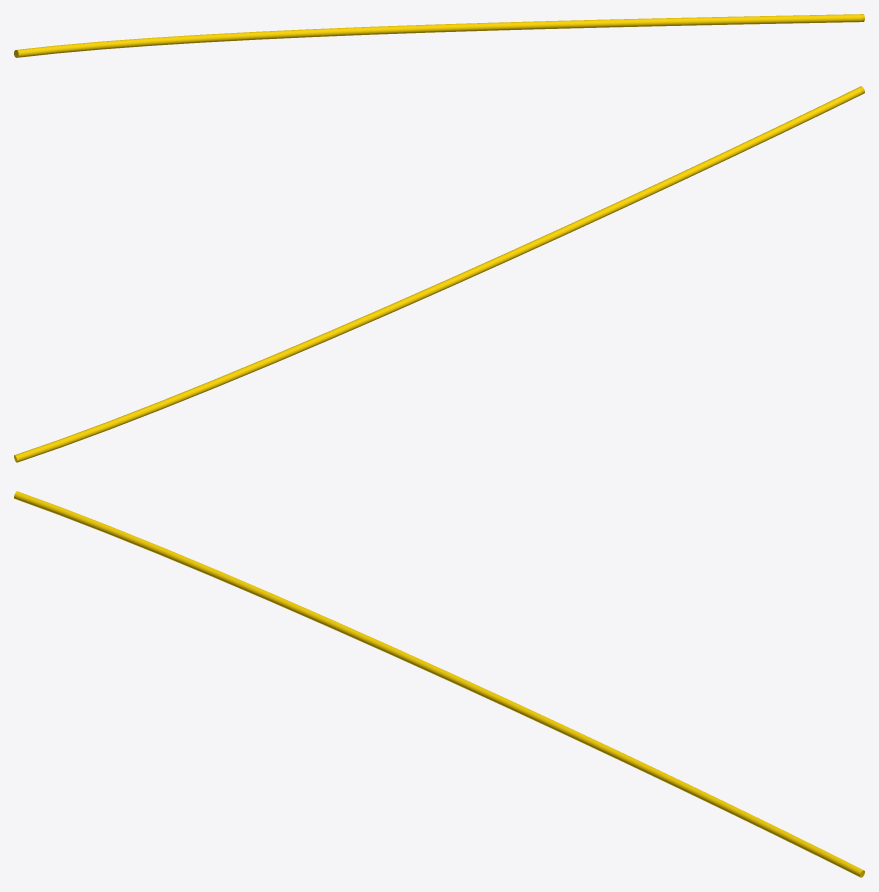
The model's file is Event_421364160_track_44.fbx.
3 renders of one model, top to bottom at view 1: azimuth 30°, elevation 25°; view 2: azimuth 210°, elevation 25°; view 3: azimuth 330°, elevation 25°, orthographic.
Visible parts, largest first — view 1: Model; view 2: Model; view 3: Model.
Part boxes in pixels (x1,y1,x2,y2): Model: (14,14,864,57); Model: (14,86,864,462); Model: (14,491,864,877).
Bounding box in the file's own units: 4.85 × 0.9541 × 0.1689.
